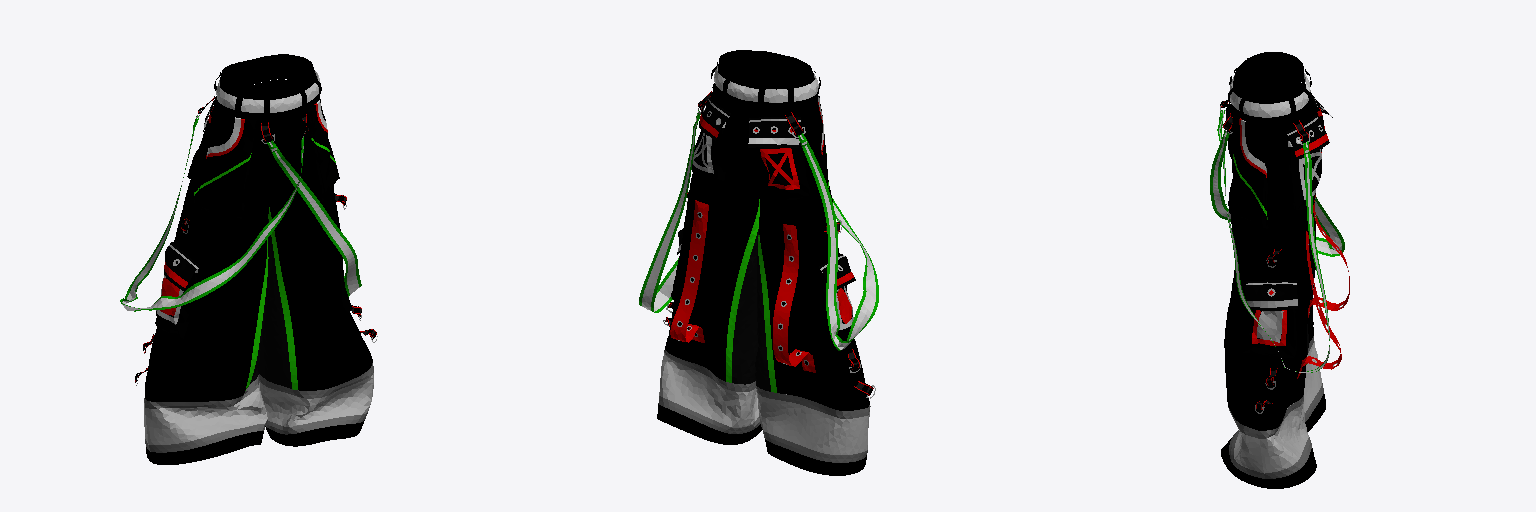
Rendered from voloskyscape-ravepants-OBJ.obj.
3 renders of one model, left to right at view 1: azimuth 30°, elevation 25°; view 2: azimuth 150°, elevation 25°; view 3: azimuth 270°, elevation 25°, orthographic.
Visible parts, largest first — view 1: Rave_Pants_-_voloskyscape_Phat_Pants_-_Low_Poly_-_Thin; view 2: Rave_Pants_-_voloskyscape_Phat_Pants_-_Low_Poly_-_Thin; view 3: Rave_Pants_-_voloskyscape_Phat_Pants_-_Low_Poly_-_Thin.
Boxes of the visible parts, x1,y1,x2,y2 form: Rave_Pants_-_voloskyscape_Phat_Pants_-_Low_Poly_-_Thin: [120, 54, 377, 464]; Rave_Pants_-_voloskyscape_Phat_Pants_-_Low_Poly_-_Thin: [639, 50, 878, 475]; Rave_Pants_-_voloskyscape_Phat_Pants_-_Low_Poly_-_Thin: [1210, 52, 1349, 488].
Bounding box in the file's own units: 0.7864 × 1.25 × 0.4237.